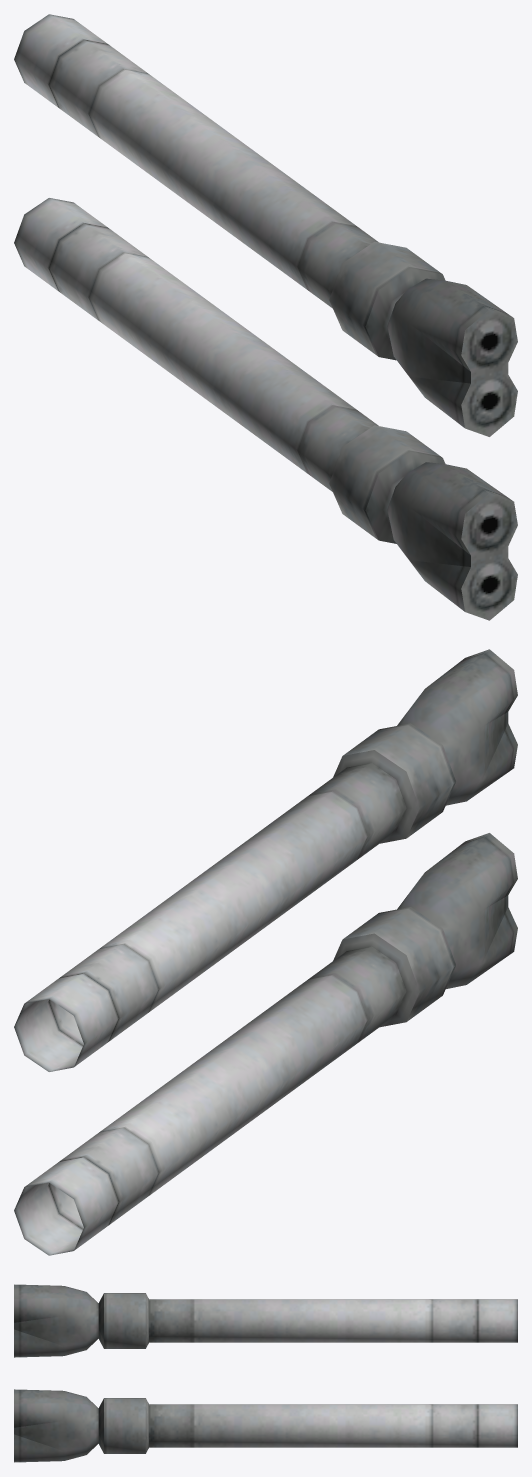
File: ykl37r_turret_barrel_s01_l0.fbx
3 views of the same model, one above another, from view 1: azimuth 30°, elevation 25°; view 2: azimuth 150°, elevation 25°; view 3: azimuth 270°, elevation 25° (orthographic). The views are drawn at different scales.
Parts seen in each view (by area): view 1: mesh_node; view 2: mesh_node; view 3: mesh_node.
Part boxes in pixels (x1,y1,x2,y2): mesh_node: [14, 14, 517, 620]; mesh_node: [14, 649, 517, 1255]; mesh_node: [14, 1284, 517, 1462].
Size of the model in its own units: 0.201 by 0.6596 by 1.69.
1 material, 1 textured.
